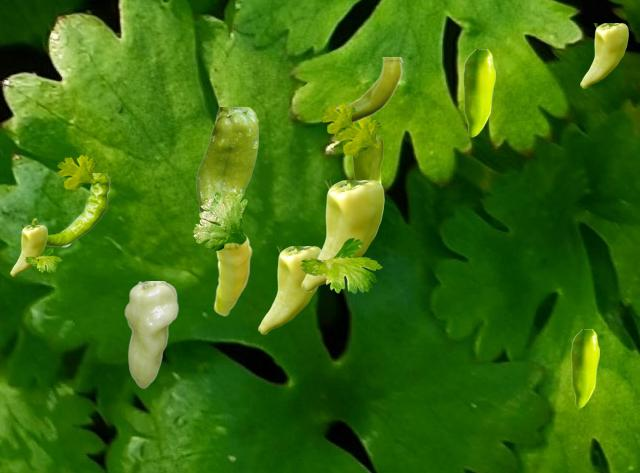green_chili: (301, 180, 383, 291), (196, 107, 257, 223), (31, 173, 109, 246), (124, 281, 177, 387), (258, 246, 320, 333), (336, 57, 402, 121), (213, 235, 251, 315), (580, 23, 627, 87), (463, 49, 494, 136), (571, 329, 598, 407), (10, 225, 46, 275), (352, 135, 382, 183)
